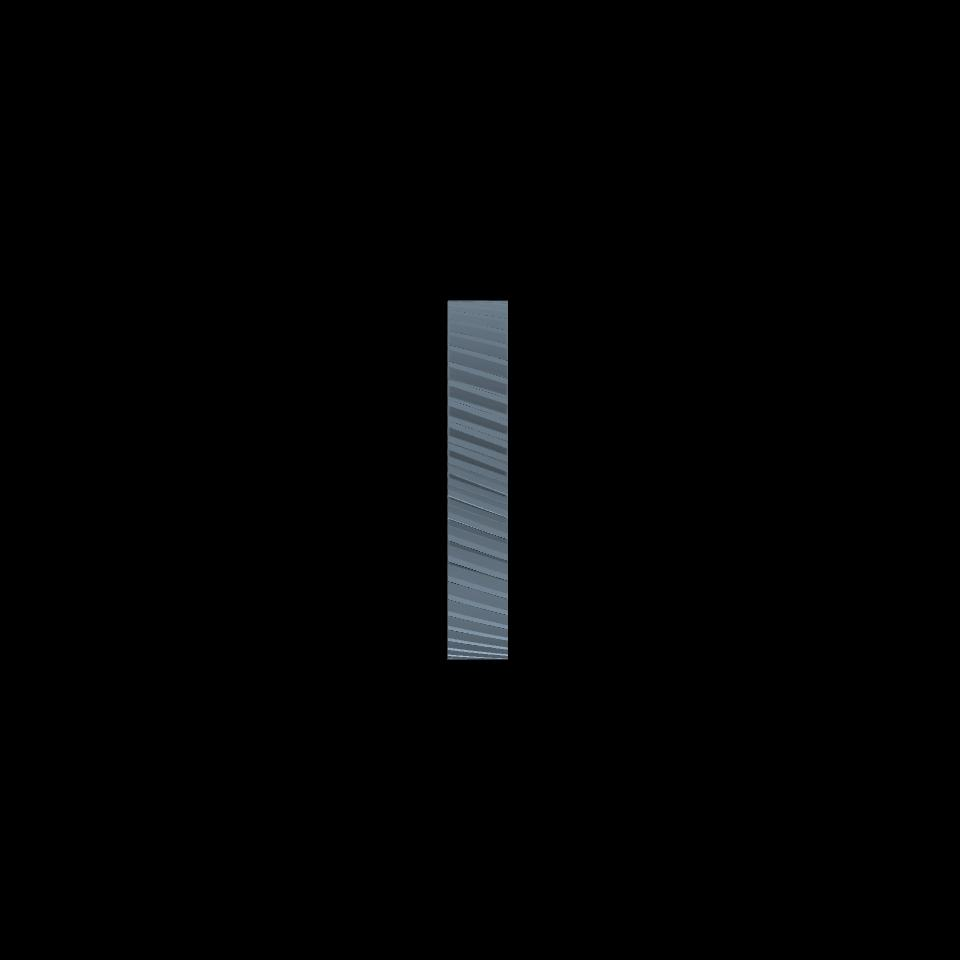Helical: (447, 301, 507, 659)
